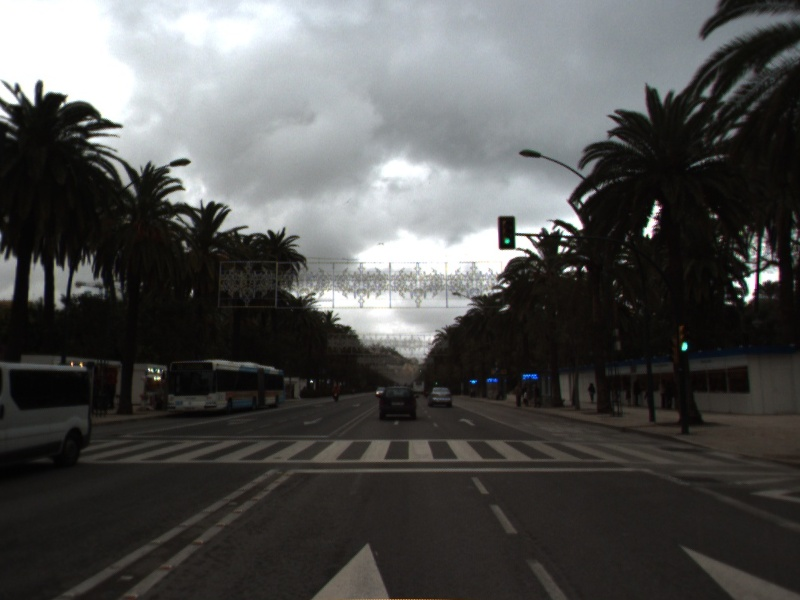STRAIGHT: (456, 416, 477, 427)
